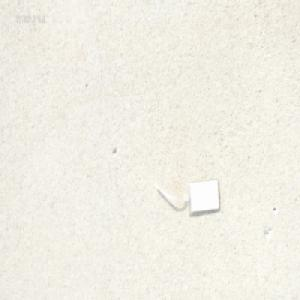LuggageTag: (150, 173, 221, 215)
